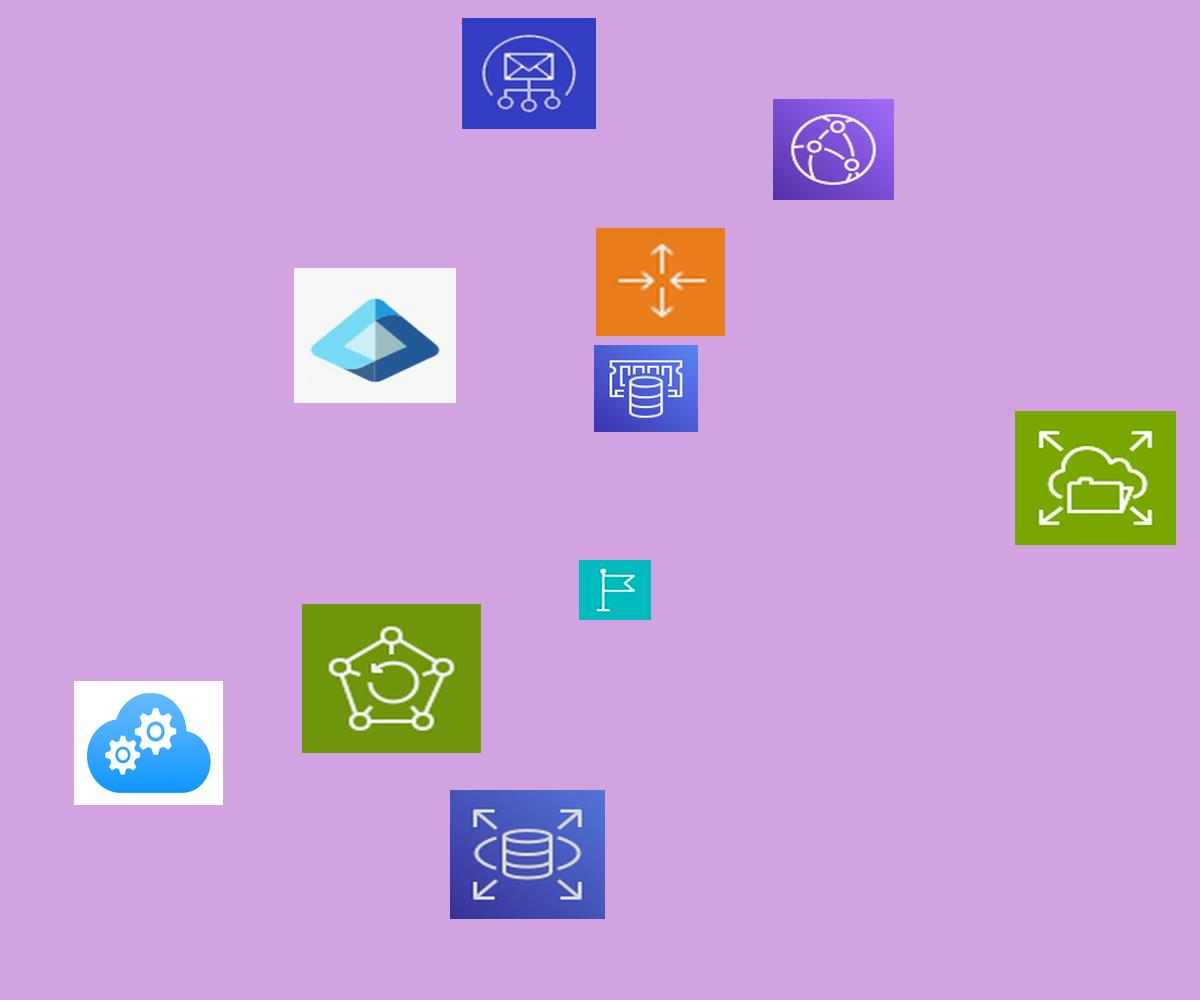AWS-Backup: (302, 604, 481, 753)
AWS-CloudFront: (773, 99, 894, 200)
AWS-EFS: (1015, 411, 1176, 545)
AWS-ElastiCache: (594, 345, 698, 432)
AWS-RDS: (450, 790, 605, 919)
AWS-Region: (579, 560, 651, 620)
AWS-Scaling-group: (596, 228, 725, 336)
AWS-Simple-Email-Service: (462, 18, 596, 129)
Azure_cloud_services: (74, 681, 223, 805)
Azure_microsoft_entra: (294, 268, 456, 403)
